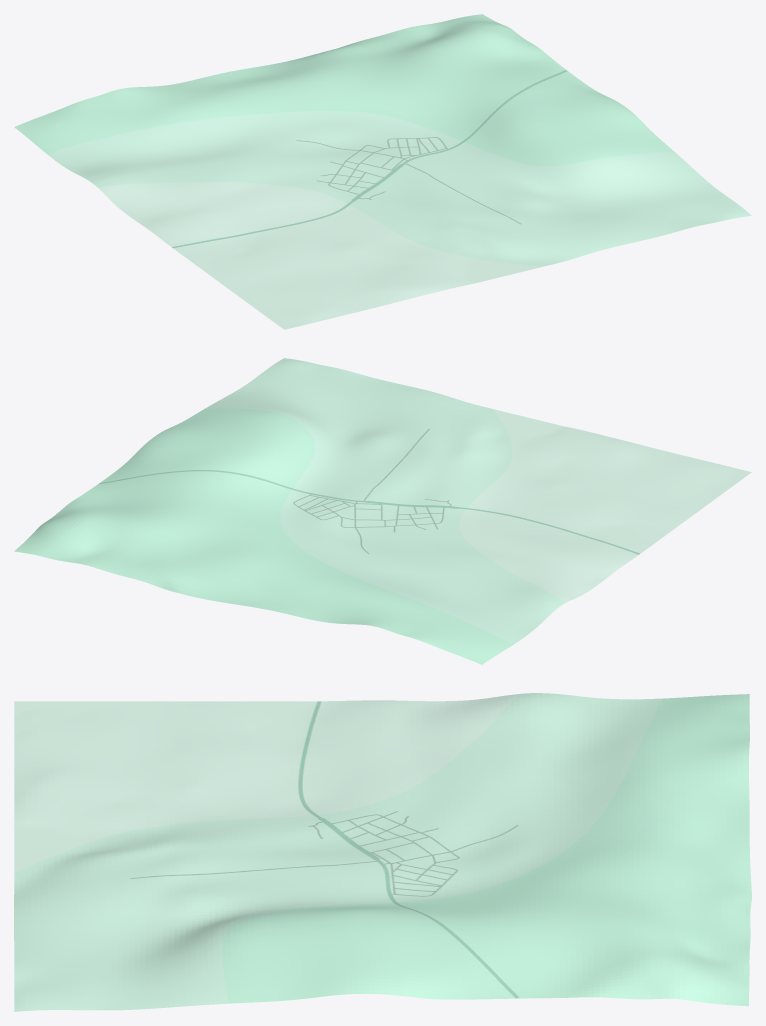
File: frutalChao.fbx
3 renders of one model, top to bottom at view 1: azimuth 30°, elevation 25°; view 2: azimuth 150°, elevation 25°; view 3: azimuth 270°, elevation 25°, orthographic. The views are drawn at different scales.
Visible parts, largest first — view 1: Plane; view 2: Plane; view 3: Plane.
Part boxes in pixels (x1,y1,x2,y2): Plane: (14, 14, 751, 329); Plane: (14, 358, 751, 664); Plane: (14, 693, 751, 1011).
Size of the model in its own units: 7034 by 342 by 7027.
